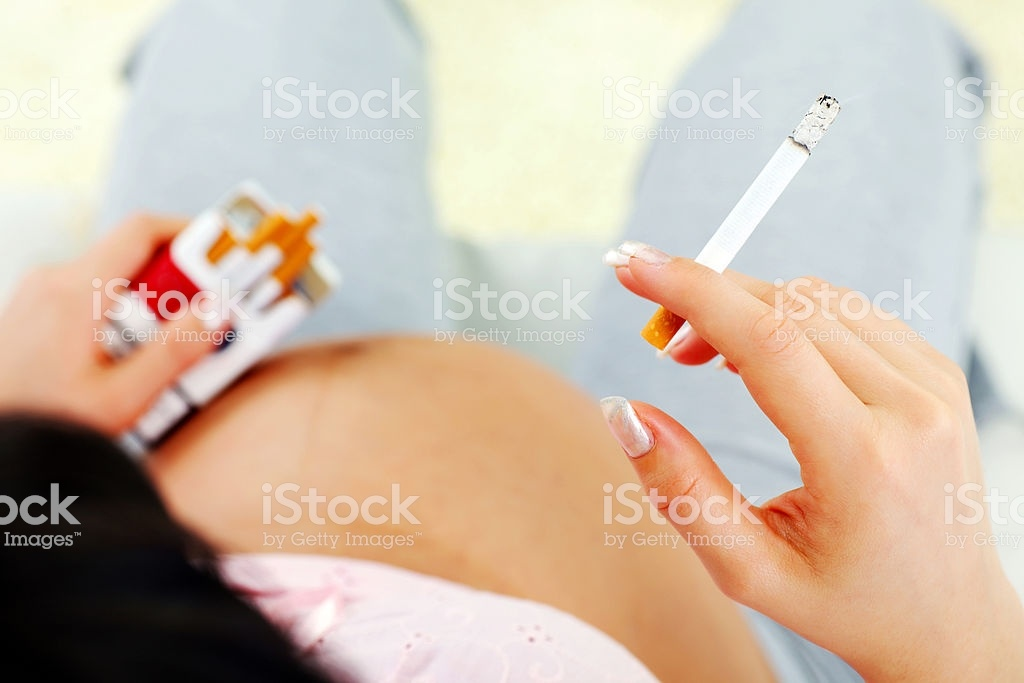sigaretta: (624, 82, 838, 366)
